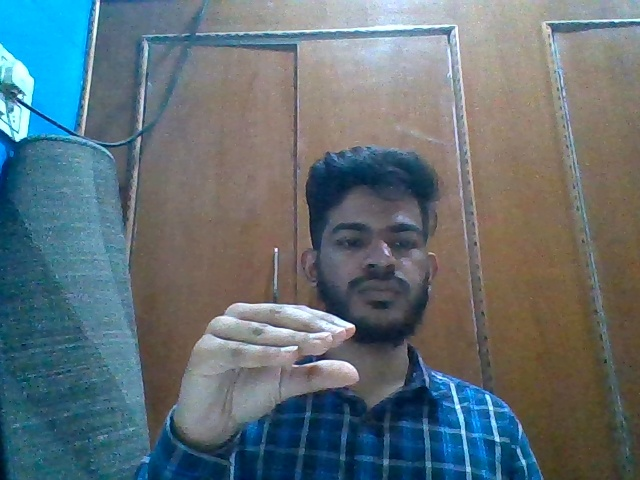no: (170, 298, 372, 448)
